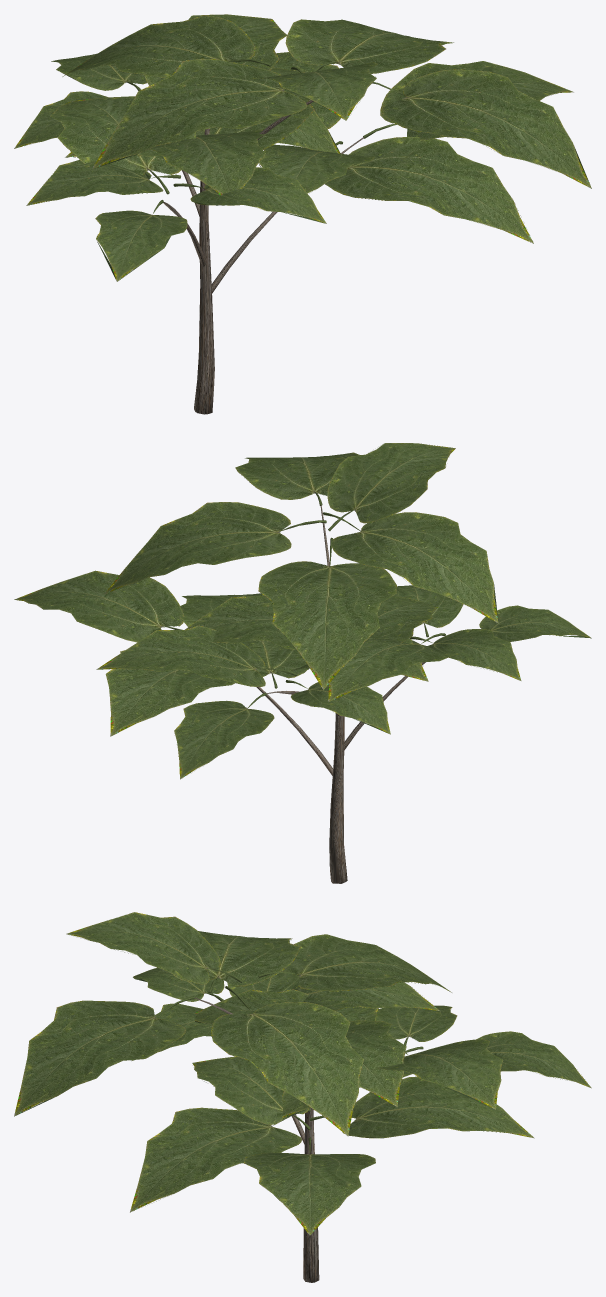
The model's file is broussonetia-1.glb.
3 views of the same model, one above another, from view 1: azimuth 30°, elevation 25°; view 2: azimuth 150°, elevation 25°; view 3: azimuth 270°, elevation 25° (orthographic). The views are drawn at different scales.
Parts seen in each view (by area): view 1: leaf, bark, leaf-edge, stem; view 2: leaf, bark, stem; view 3: leaf, bark, stem, leaf-edge.
Part boxes in pixels (x1,y1,x2,y2): leaf: (14, 14, 591, 281); bark: (163, 100, 363, 414); leaf-edge: (14, 22, 591, 280); stem: (126, 59, 405, 213); leaf: (14, 443, 590, 779); bark: (256, 505, 425, 883); stem: (161, 492, 445, 708); leaf: (14, 912, 591, 1235); bark: (194, 998, 319, 1282); stem: (155, 967, 423, 1152); leaf-edge: (14, 917, 582, 1233).
Size of the model in its own units: 0.4563 by 0.3119 by 0.4562.
5 materials, 4 textured.
